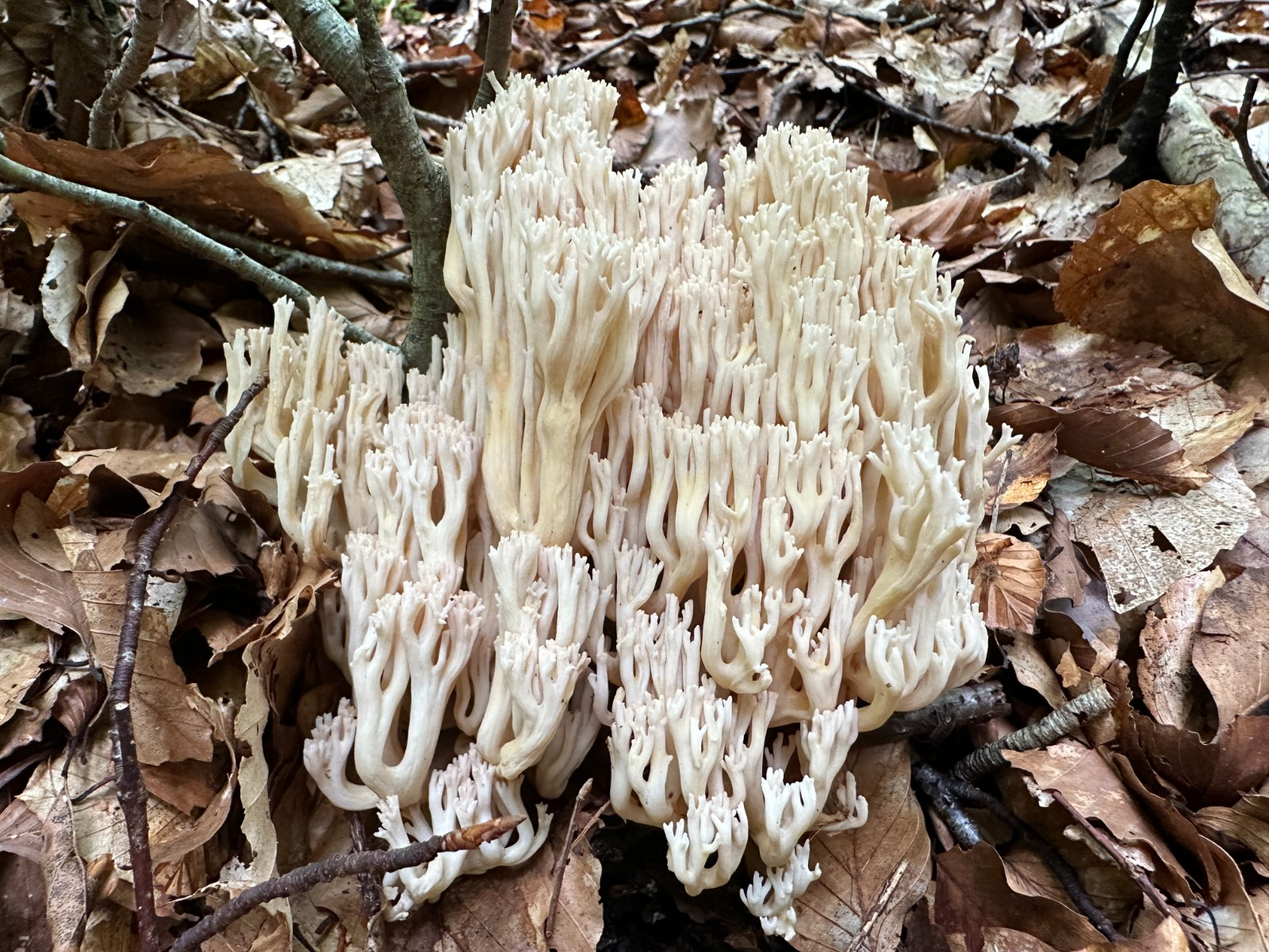coral: (226, 71, 1004, 938)
